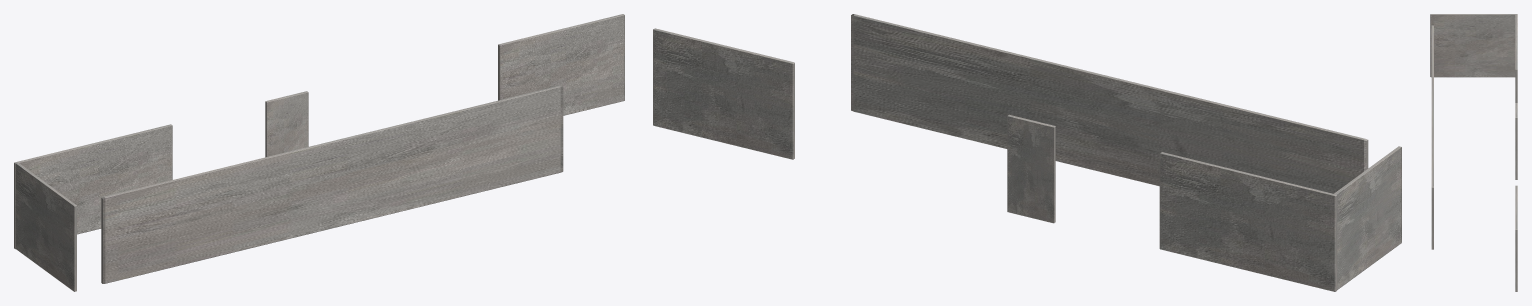
The model's file is SecondFloor_LobbyWall.fbx.
3 renders of one model, left to right at view 1: azimuth 30°, elevation 25°; view 2: azimuth 150°, elevation 25°; view 3: azimuth 270°, elevation 25°, orthographic. The views are drawn at different scales.
Parts seen in each view (by area): view 1: Baked_Mesh; view 2: Baked_Mesh; view 3: Baked_Mesh.
Boxes of the visible parts, x1=… form: Baked_Mesh: x1=14, y1=14, x2=624, y2=291; Baked_Mesh: x1=653, y1=14, x2=1401, y2=291; Baked_Mesh: x1=1430, y1=14, x2=1517, y2=291.
Bounding box in the file's own units: 5993 × 808 × 1021.
1 material, 1 textured.
